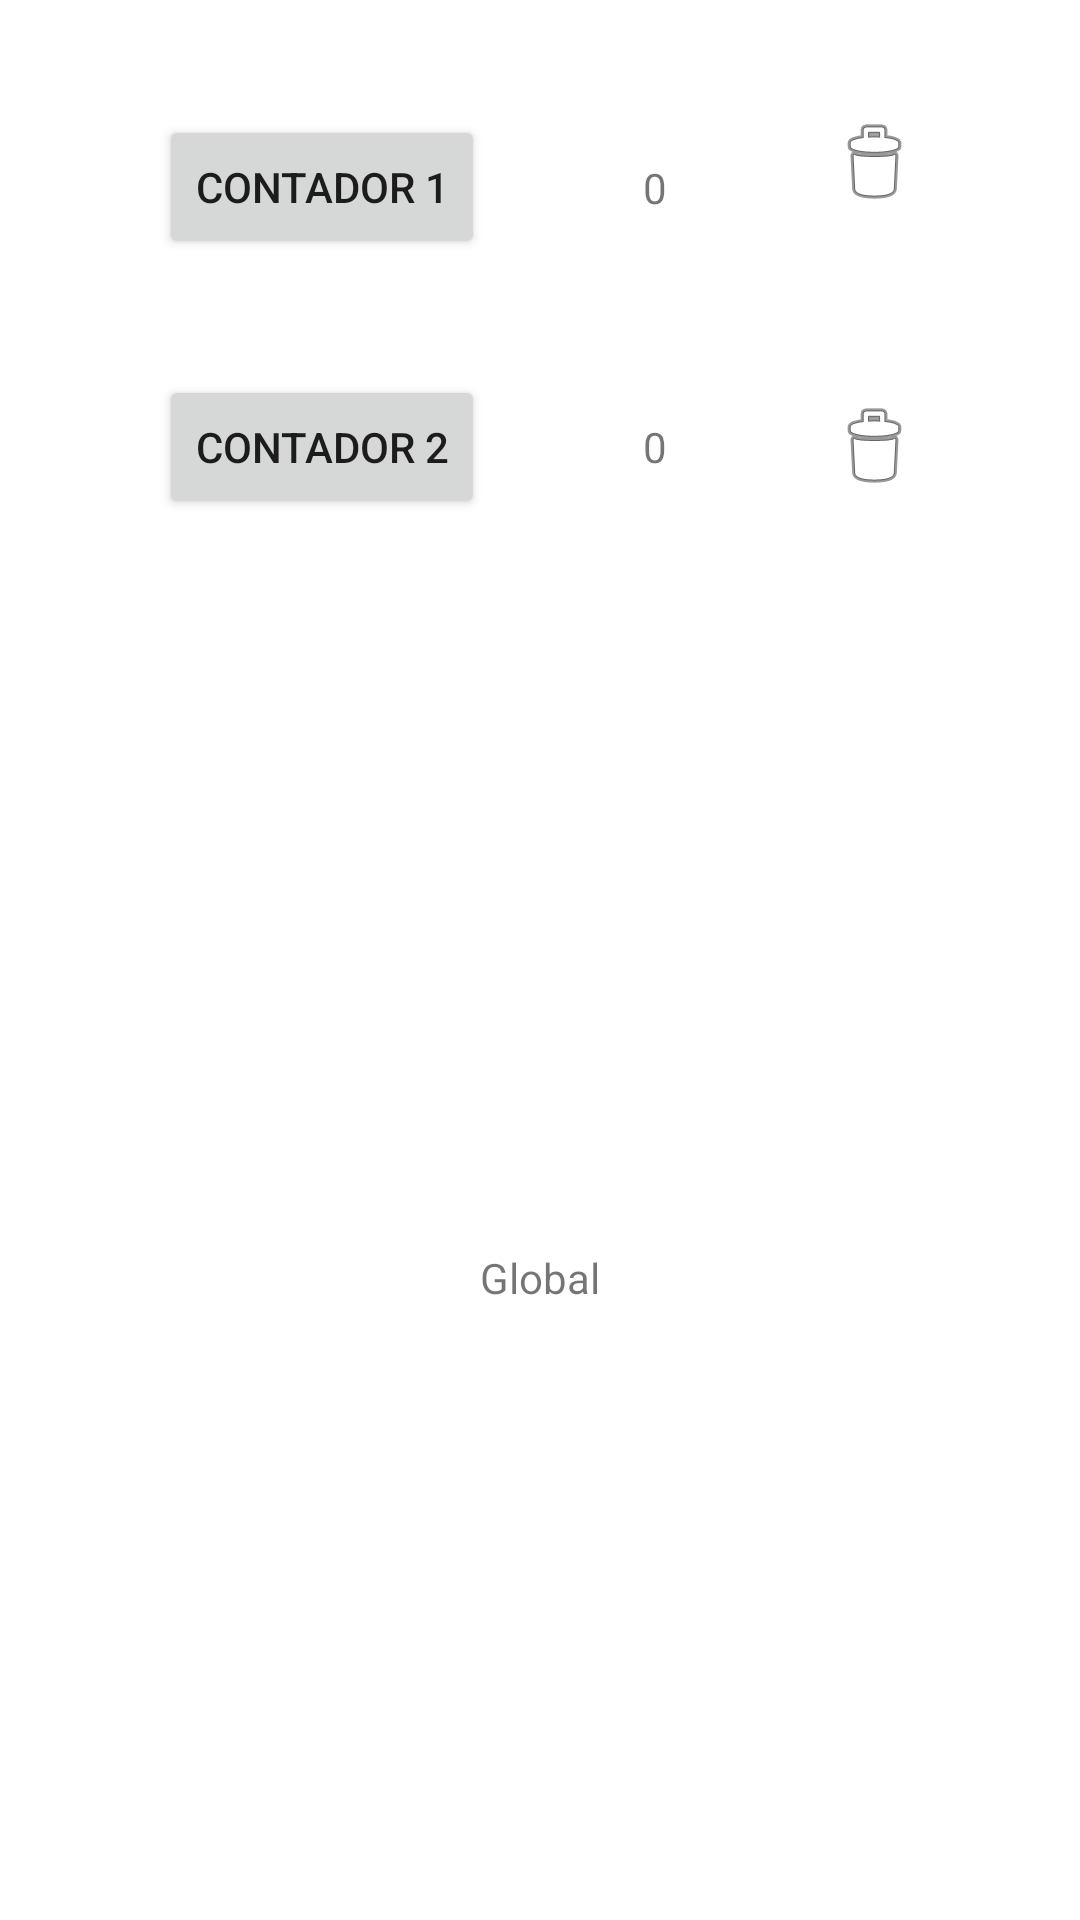

Where icons sit on this 1080px×1920px app screen, as (x1, y1, x2, y2):
delete: (847, 124, 902, 199), (847, 408, 902, 483)
